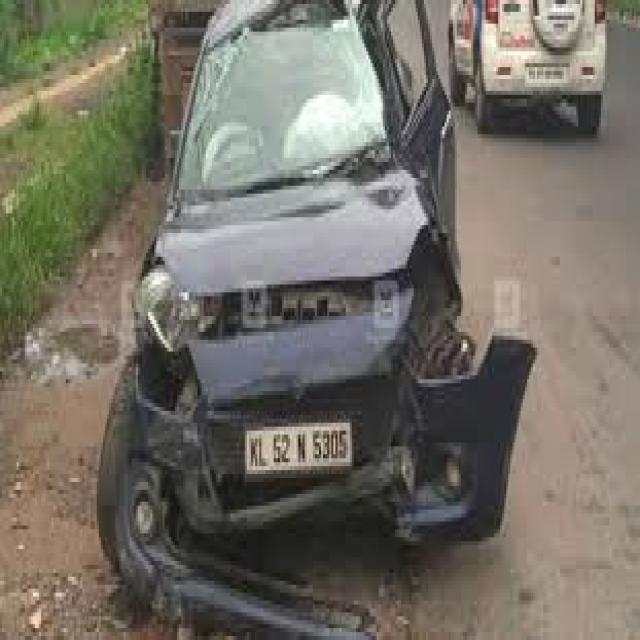accident: (123, 6, 495, 613)
